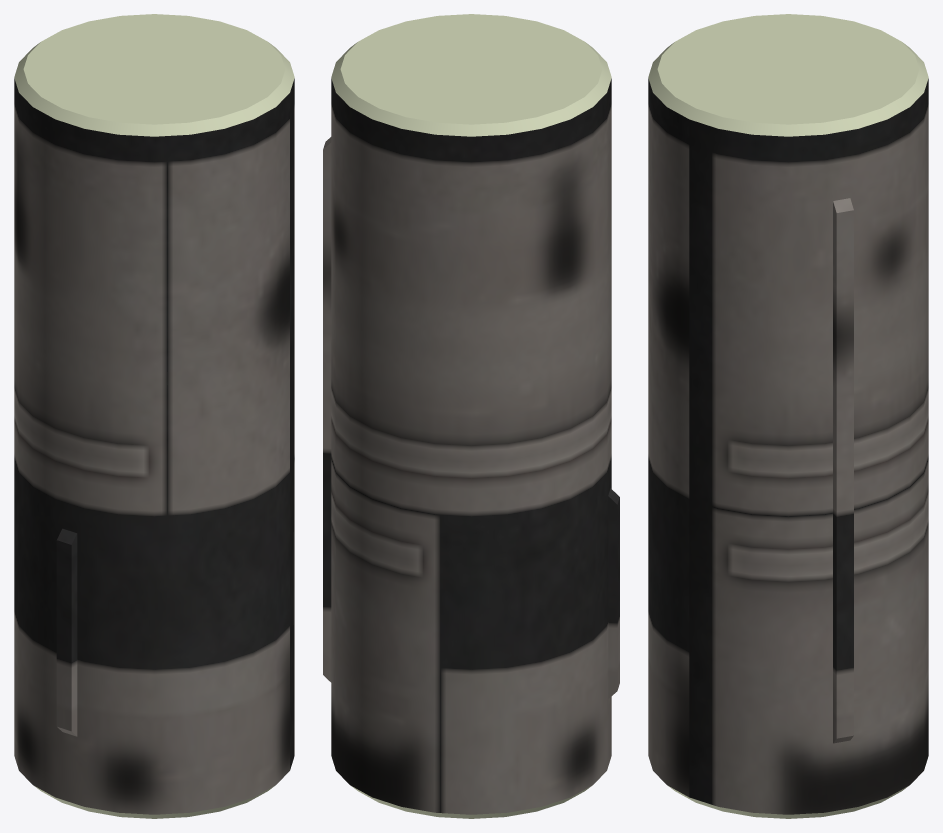
Rendered from Arrow_FuelTank_0p5_1.obj.
The picture shows the model from 3 angles, left to right: view 1: azimuth 30°, elevation 25°; view 2: azimuth 150°, elevation 25°; view 3: azimuth 270°, elevation 25°; orthographic projection.
Parts seen in each view (by area): view 1: Arrow_FuelTank_0p5_1_Arrow_FuelTank_0p5_1_auv, Arrow_FuelTank_0p5_1_default; view 2: Arrow_FuelTank_0p5_1_Arrow_FuelTank_0p5_1_auv, Arrow_FuelTank_0p5_1_default; view 3: Arrow_FuelTank_0p5_1_Arrow_FuelTank_0p5_1_auv, Arrow_FuelTank_0p5_1_default.
Boxes of the visible parts, bbox=[...] form: Arrow_FuelTank_0p5_1_Arrow_FuelTank_0p5_1_auv: bbox=[14, 78, 294, 814]; Arrow_FuelTank_0p5_1_default: bbox=[14, 14, 294, 818]; Arrow_FuelTank_0p5_1_Arrow_FuelTank_0p5_1_auv: bbox=[323, 78, 619, 814]; Arrow_FuelTank_0p5_1_default: bbox=[331, 14, 611, 818]; Arrow_FuelTank_0p5_1_Arrow_FuelTank_0p5_1_auv: bbox=[648, 78, 928, 814]; Arrow_FuelTank_0p5_1_default: bbox=[648, 14, 928, 818].
Bounding box in the file's own units: 0.9404 × 2.56 × 0.9375.
